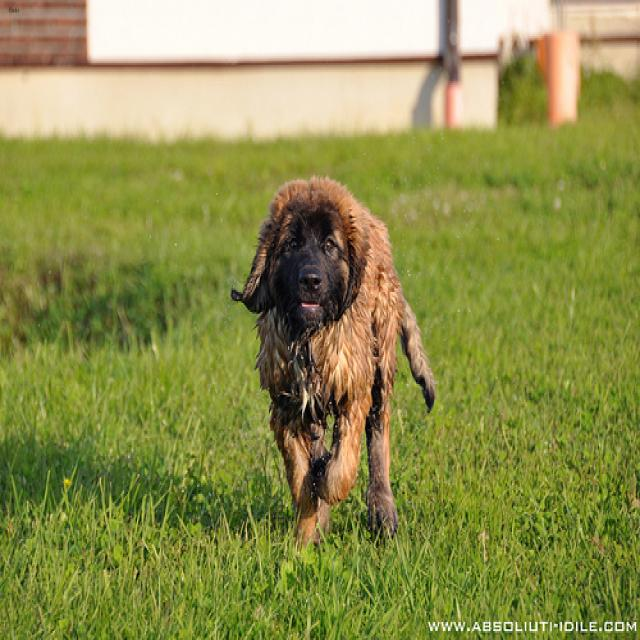dog-leonberger: (227, 160, 447, 553)
